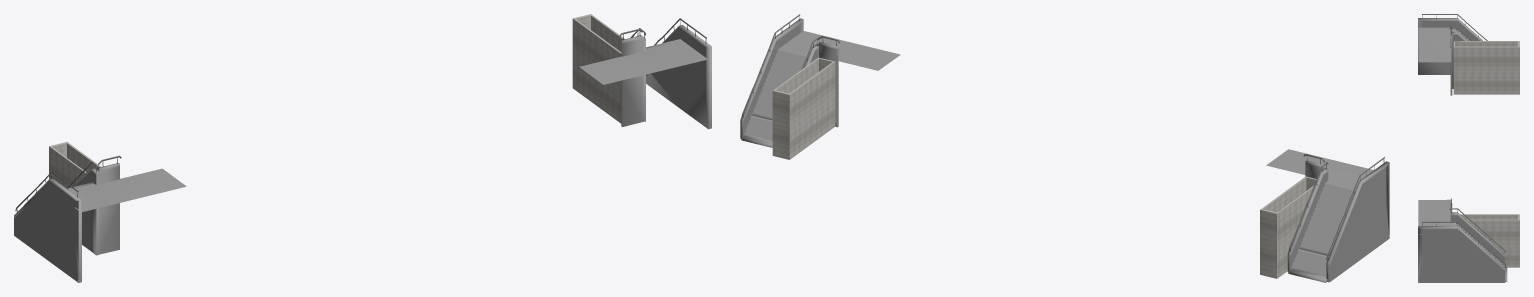
File: stairs.dae
3 views of the same model, side by side, from view 1: azimuth 30°, elevation 25°; view 2: azimuth 150°, elevation 25°; view 3: azimuth 270°, elevation 25° (orthographic). The views are drawn at different scales.
Parts seen in each view (by area): view 1: Stairs; view 2: Stairs; view 3: Stairs.
Part boxes in pixels (<box>): Stairs: <box>14,14,711,282</box>; Stairs: <box>740,14,1389,282</box>; Stairs: <box>1418,14,1519,282</box>.
Bounding box in the file's own units: 28.45 × 5.85 × 4.02.
Materials: 3 (1 with a texture image).
